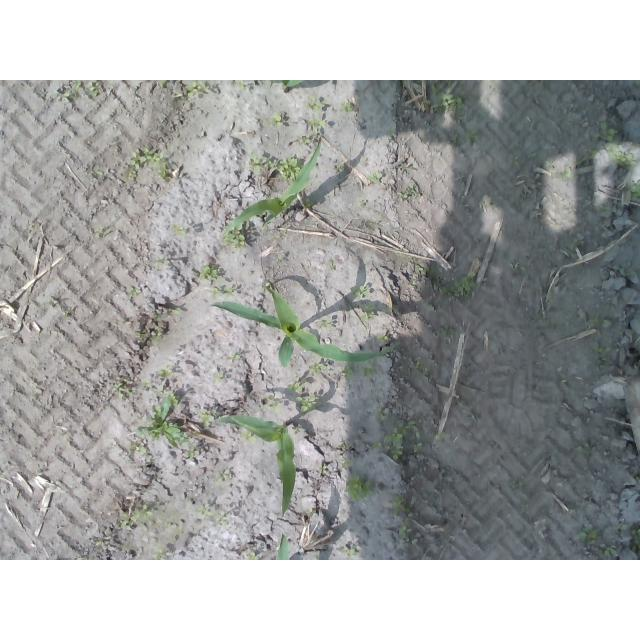Maize: (208, 284, 394, 369), (226, 137, 322, 232), (214, 414, 296, 514), (276, 80, 303, 97), (277, 534, 291, 560)
Weeds: (125, 389, 195, 458), (371, 407, 425, 462), (585, 118, 640, 170), (417, 265, 476, 297), (125, 143, 172, 181), (136, 308, 184, 345), (247, 152, 302, 181), (428, 81, 465, 120), (199, 263, 238, 297), (573, 527, 613, 559), (53, 80, 104, 104), (351, 281, 378, 319), (288, 383, 320, 413), (121, 507, 155, 531), (193, 507, 229, 529), (305, 96, 328, 130), (346, 477, 371, 504), (225, 225, 248, 248), (184, 81, 209, 100), (341, 366, 382, 377), (398, 186, 419, 206), (114, 382, 134, 400), (589, 317, 612, 332), (560, 168, 581, 184), (392, 494, 405, 518), (439, 325, 459, 340), (433, 433, 448, 452), (631, 525, 640, 554), (398, 524, 414, 540), (368, 170, 384, 186), (269, 111, 283, 129), (316, 319, 337, 330), (590, 345, 613, 355), (630, 181, 640, 204), (152, 545, 166, 560), (575, 444, 591, 457), (342, 548, 358, 561), (464, 130, 480, 143), (215, 467, 229, 481), (302, 197, 314, 212), (242, 430, 257, 442), (310, 363, 326, 374), (198, 414, 211, 427), (128, 286, 141, 299), (173, 226, 187, 238), (376, 333, 392, 343), (159, 367, 173, 378), (508, 155, 520, 167), (224, 353, 242, 361), (342, 103, 355, 114), (211, 373, 225, 383), (271, 399, 281, 413), (414, 358, 424, 371), (297, 136, 311, 145), (236, 80, 248, 89), (317, 465, 327, 475), (142, 380, 151, 389), (248, 554, 260, 560)
